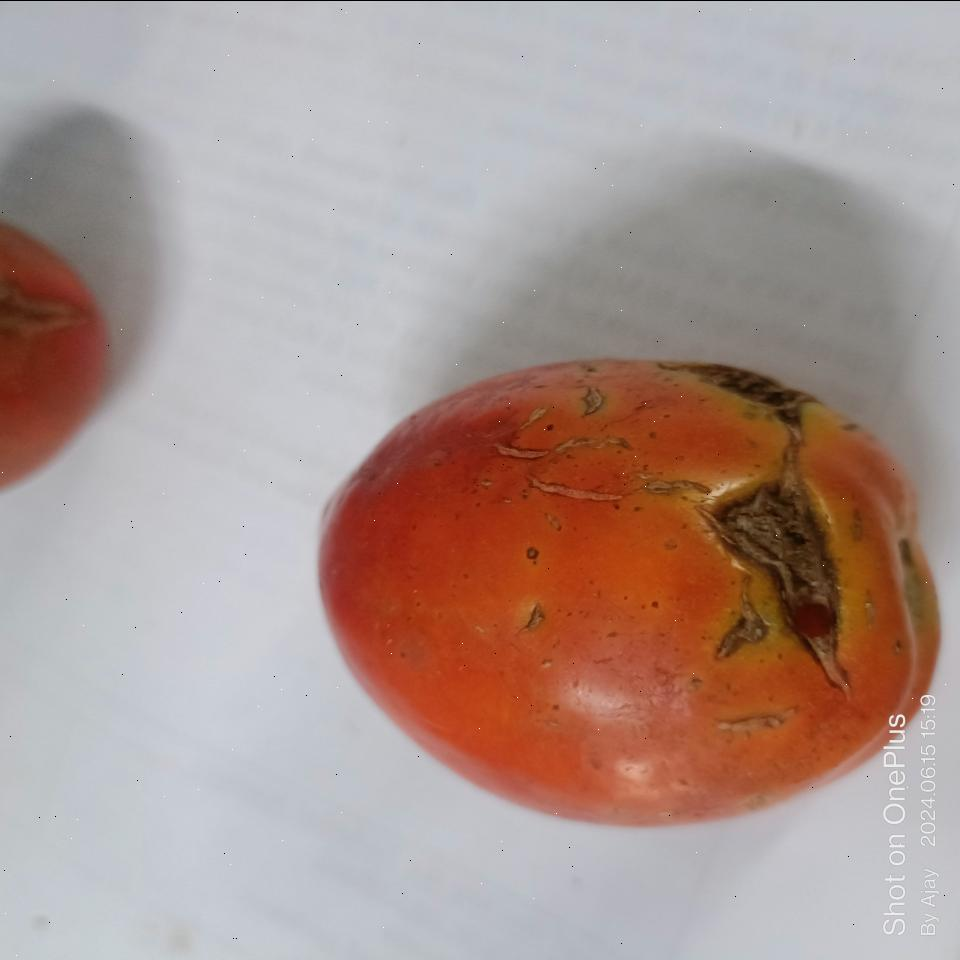Cracking: (696, 418, 849, 692)
